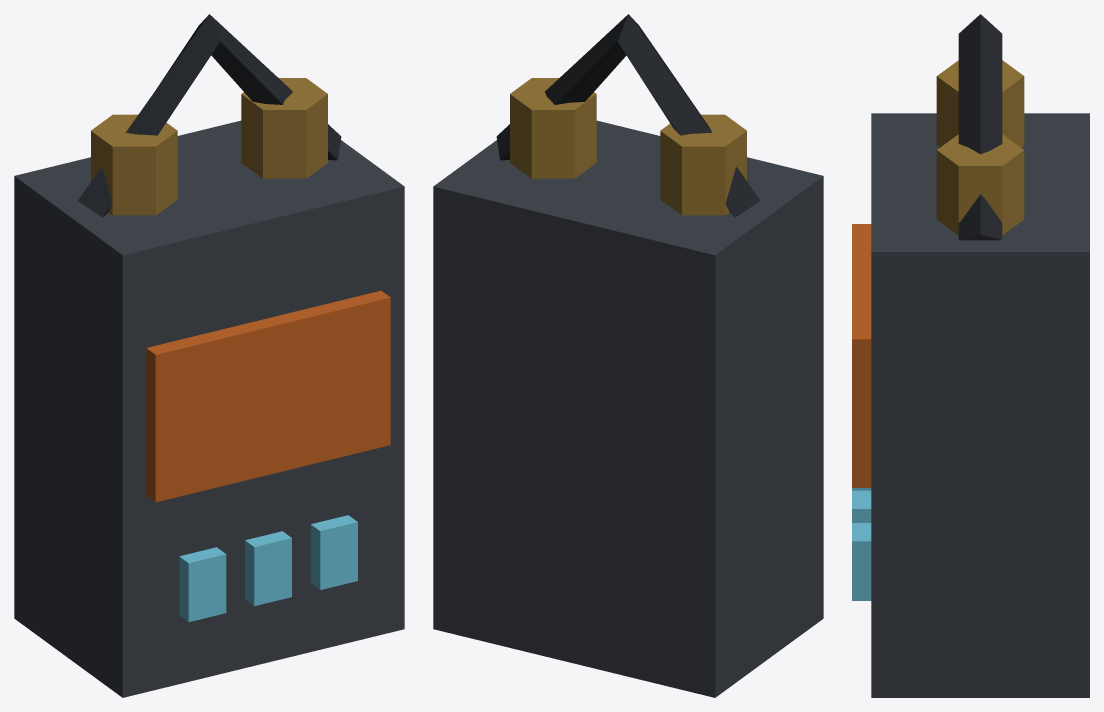
File: emergency-battery.glb
The picture shows the model from 3 angles, left to right: view 1: azimuth 30°, elevation 25°; view 2: azimuth 150°, elevation 25°; view 3: azimuth 270°, elevation 25°; orthographic projection.
Parts seen in each view (by area): view 1: m; view 2: m; view 3: m.
Part boxes in pixels (box(x1,y1,x2,y2)): m: box(14, 14, 404, 697); m: box(433, 14, 823, 697); m: box(852, 14, 1089, 697).
Size of the model in its own units: 0.0484 by 0.1 by 0.0351.
